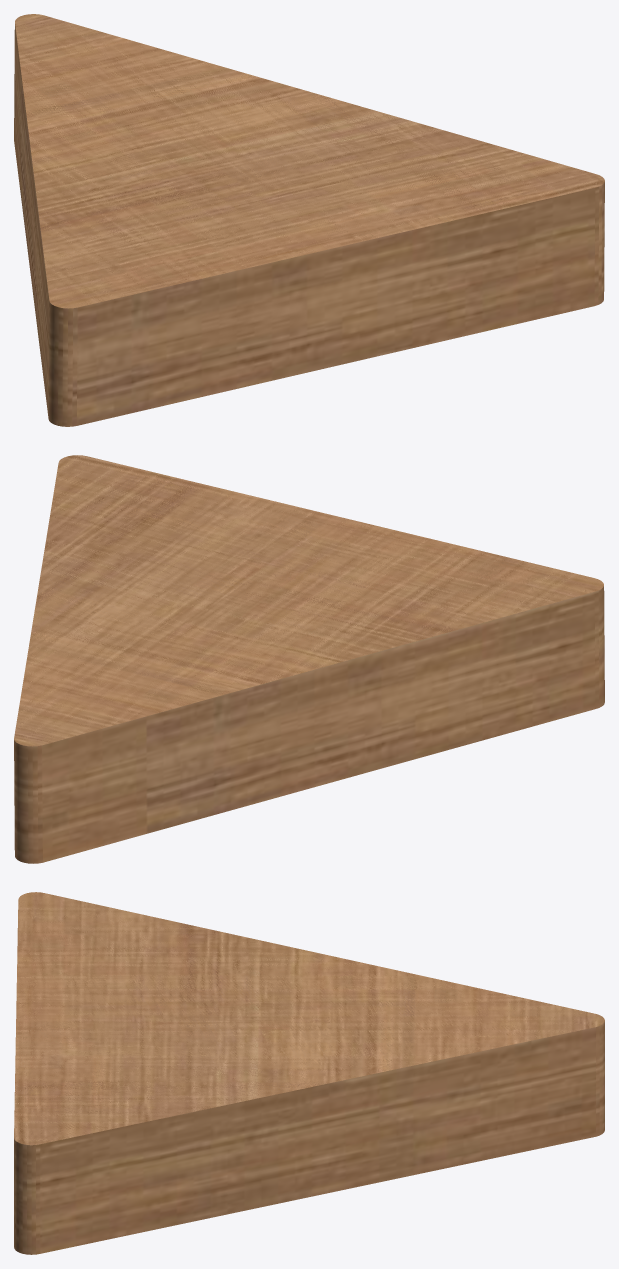
File: triangle_oak.fbx
3 views of the same model, one above another, from view 1: azimuth 30°, elevation 25°; view 2: azimuth 150°, elevation 25°; view 3: azimuth 270°, elevation 25° (orthographic). The views are drawn at different scales.
Parts seen in each view (by area): view 1: Model; view 2: Model; view 3: Model.
Boxes of the visible parts, x1,y1,x2,y2 form: Model: [14, 14, 604, 426]; Model: [14, 455, 604, 863]; Model: [14, 892, 604, 1254].
Size of the model in its own units: 4.86 by 1.04 by 4.87.
